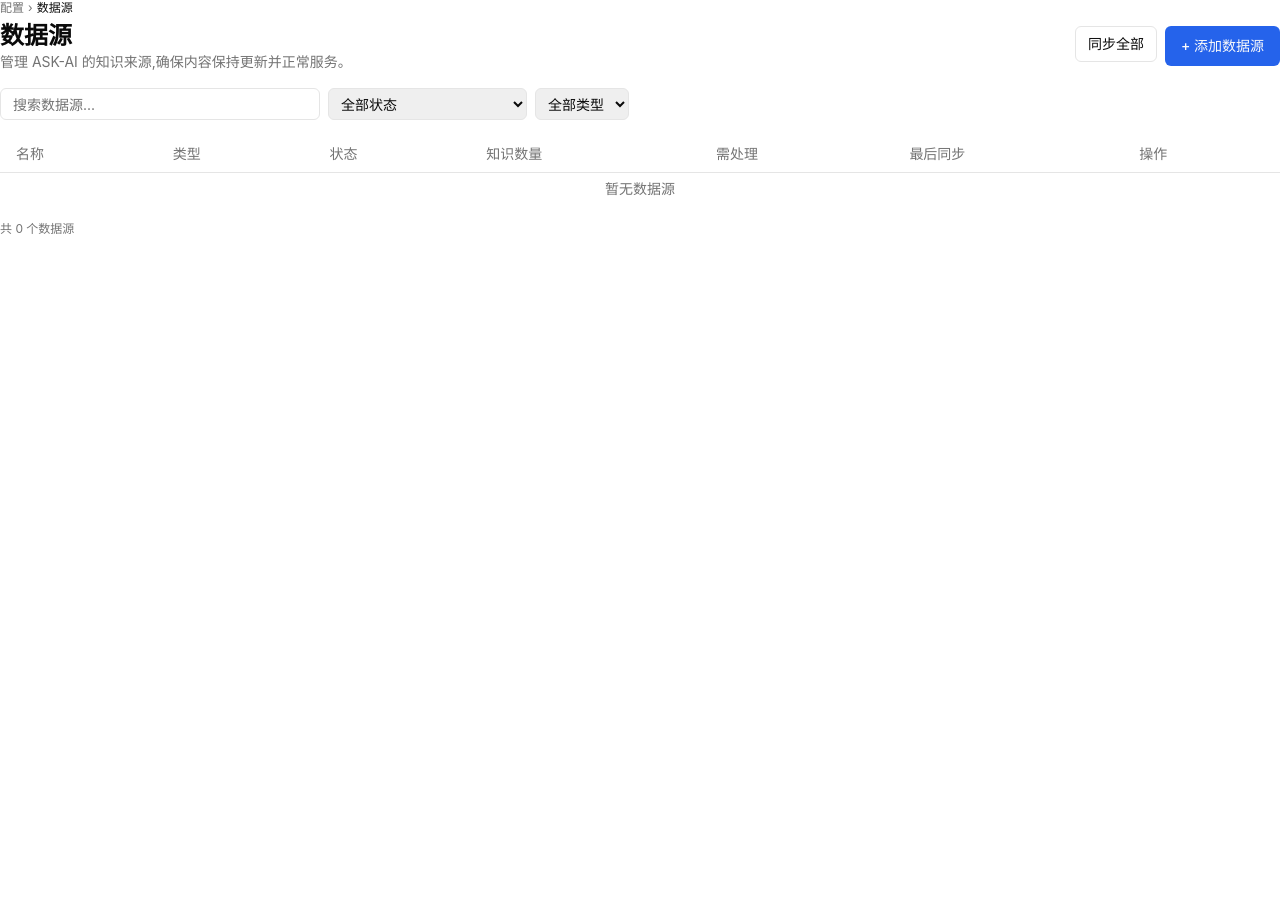
Test: DataSources › opens create form when clicking new button
Step 1. Click the button "+ 添加数据源" → {"x": 1222, "y": 46}, box [1165,26,1279,66]
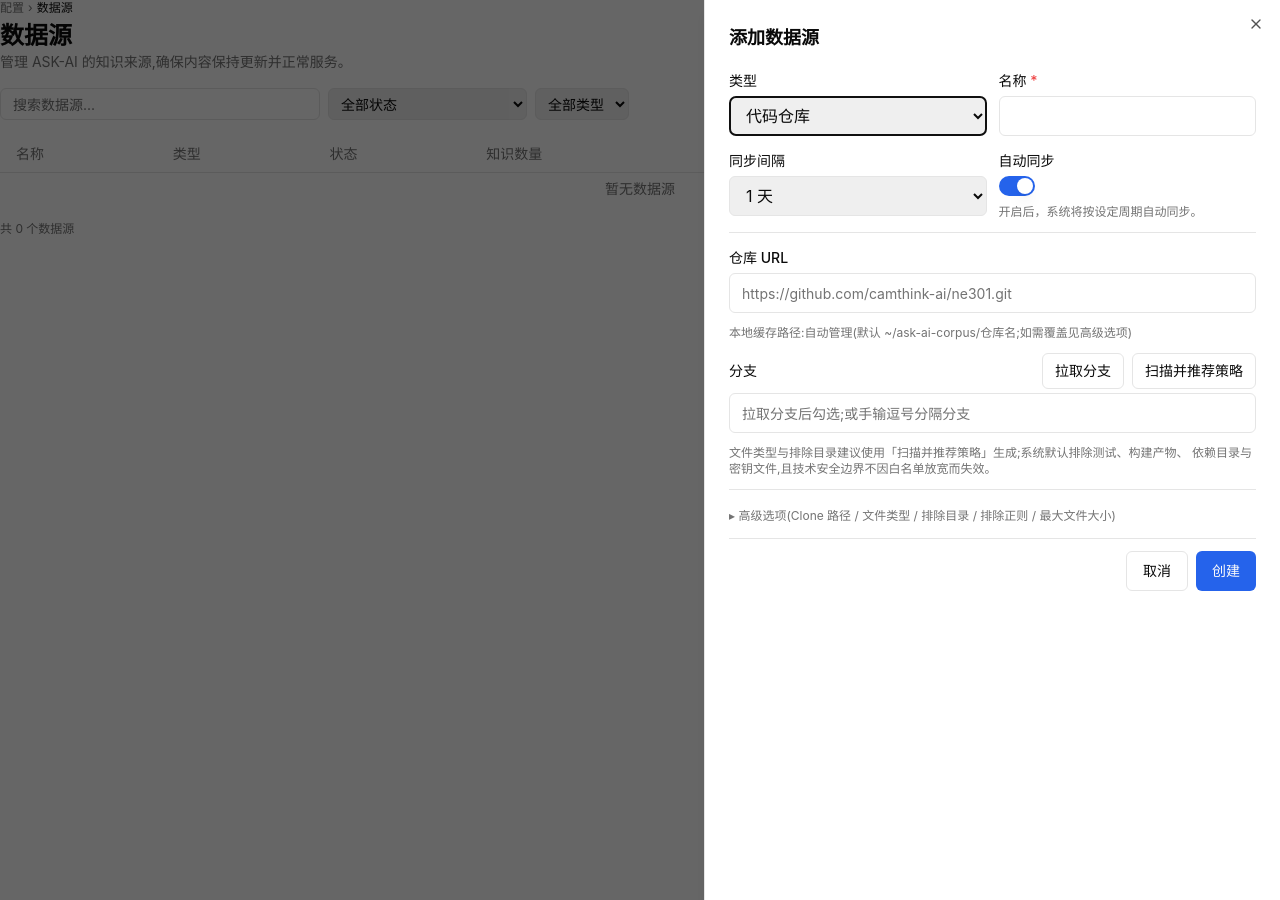
Check: the button "创建" is shown, box [1196,551,1256,591]
